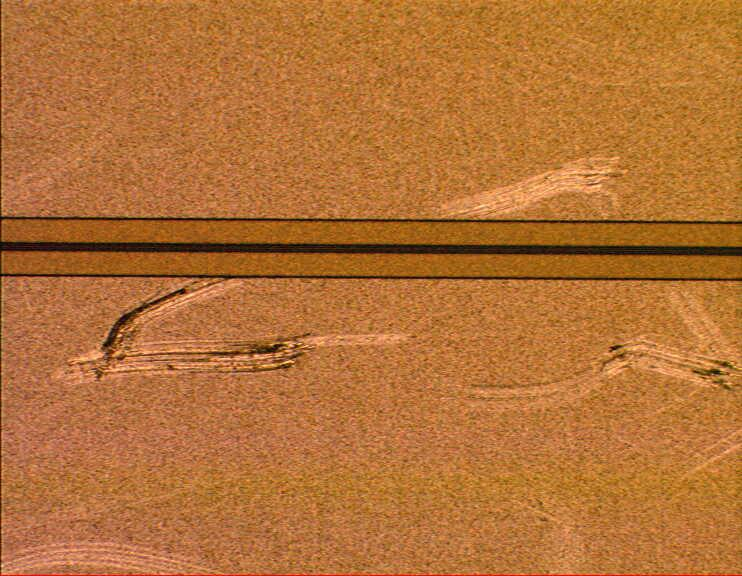SCRATCH: (1, 85, 742, 576)
